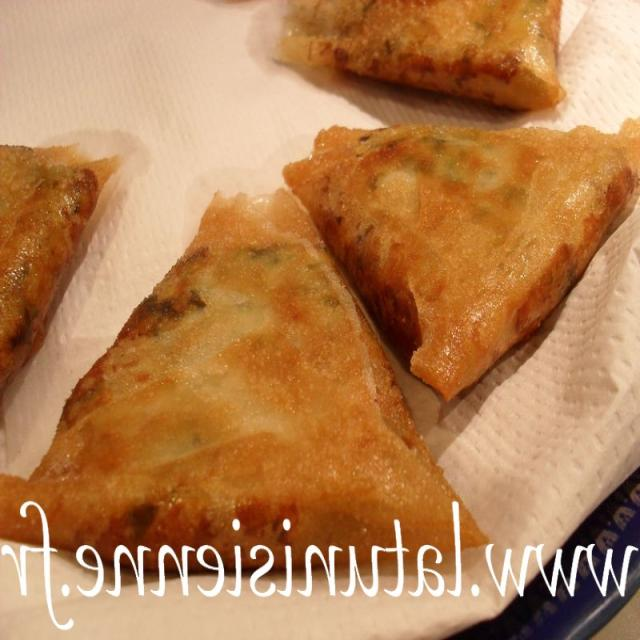brik: (15, 198, 431, 614), (278, 93, 640, 325)
